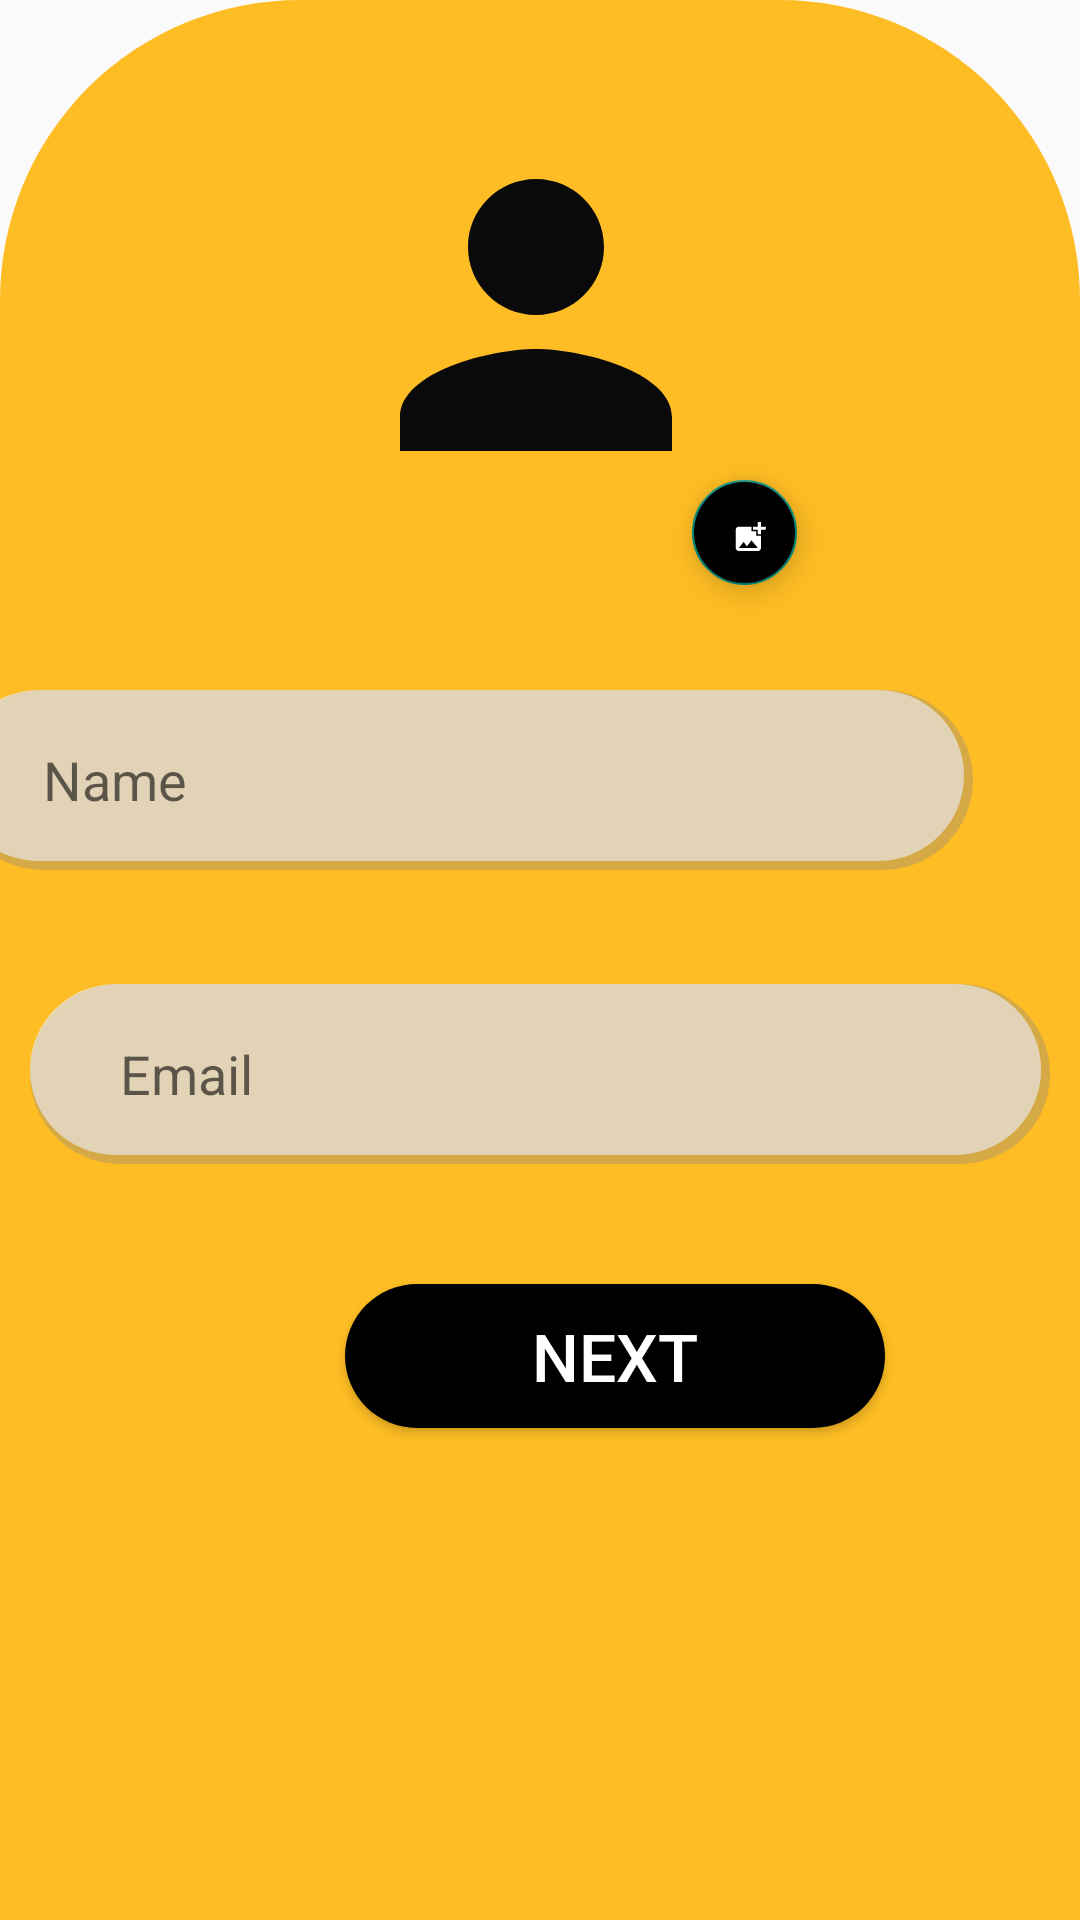

Named icons in this screenshot (1080px×1920px) and their centers, (x=x, y=y):
add photo alternate: (x=744, y=532)
person: (x=536, y=315)
